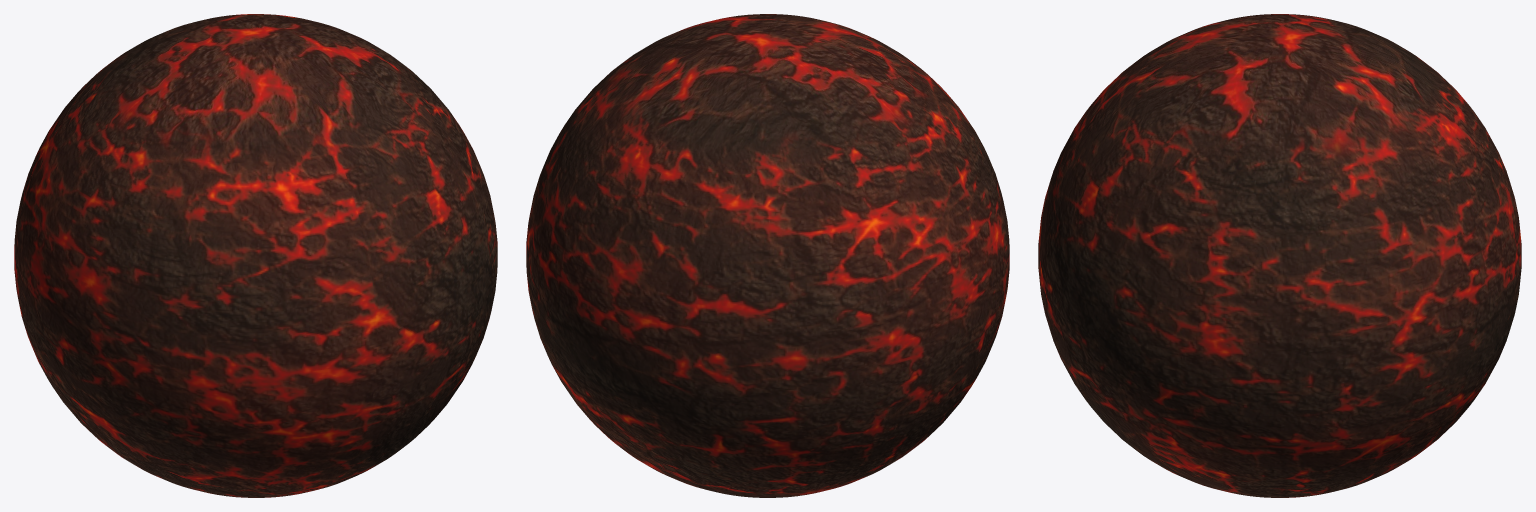
File: planet3.fbx
3 renders of one model, left to right at view 1: azimuth 30°, elevation 25°; view 2: azimuth 150°, elevation 25°; view 3: azimuth 270°, elevation 25°, orthographic.
Parts seen in each view (by area): view 1: planet; view 2: planet; view 3: planet.
Boxes of the visible parts, x1=… form: planet: x1=14, y1=14, x2=497, y2=497; planet: x1=526, y1=14, x2=1009, y2=497; planet: x1=1038, y1=14, x2=1521, y2=497.
Size of the model in its own units: 99.8 by 100 by 99.9.
1 material, 1 textured.
